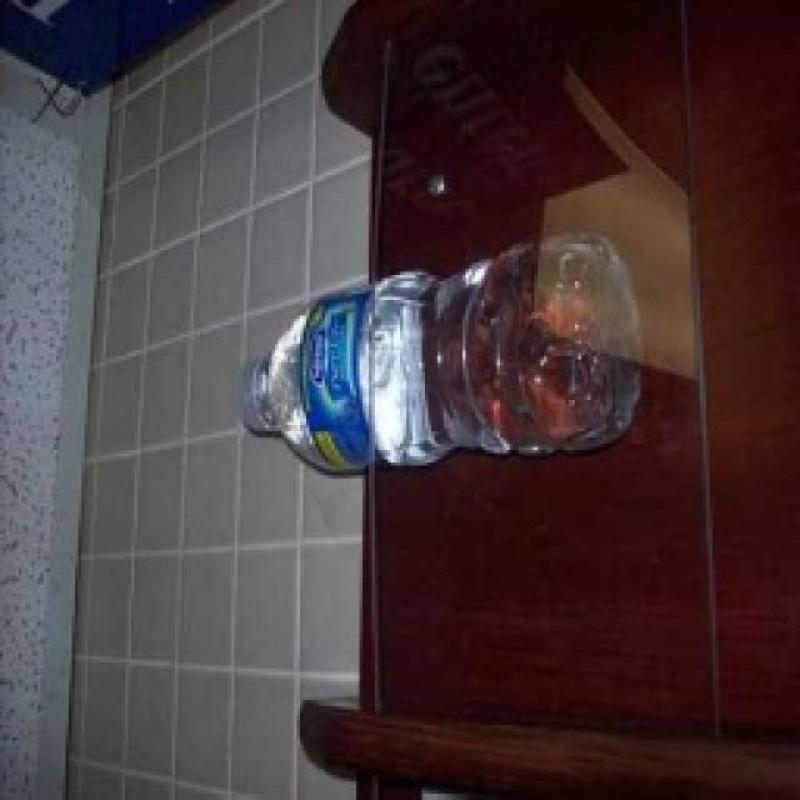botella: (234, 233, 644, 477)
